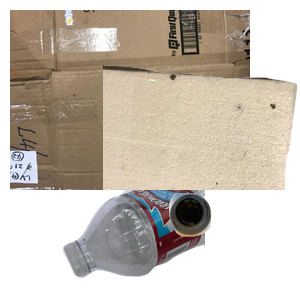cardboard: (10, 10, 250, 190)
glass: (166, 190, 300, 300)
plastic: (60, 190, 300, 280)
trash: (103, 62, 300, 242)
